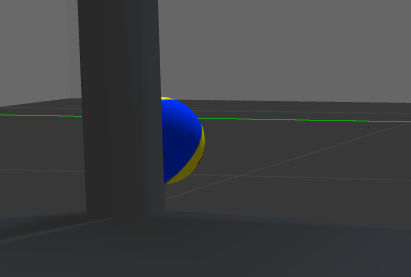toy story ball: (162, 95, 205, 186)
